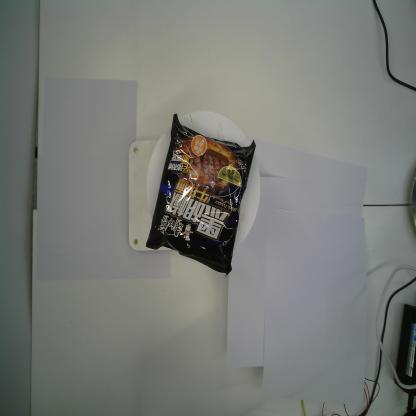Instant Noodles: (144, 112, 257, 278)
